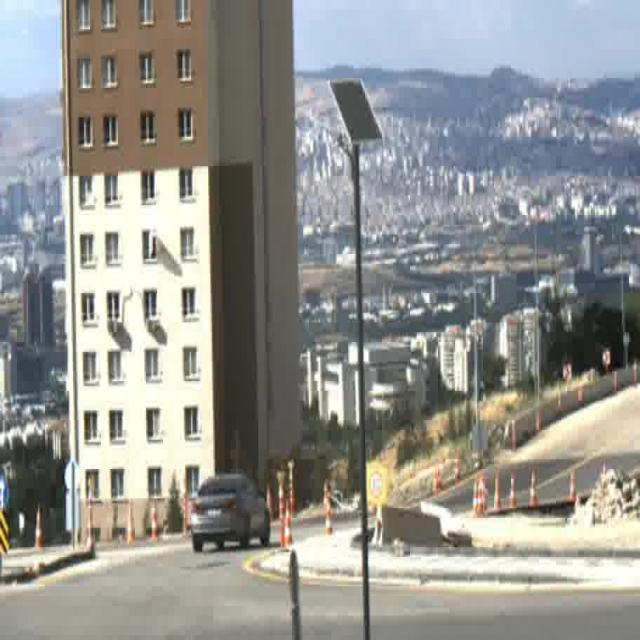Car: (194, 476, 271, 554)
